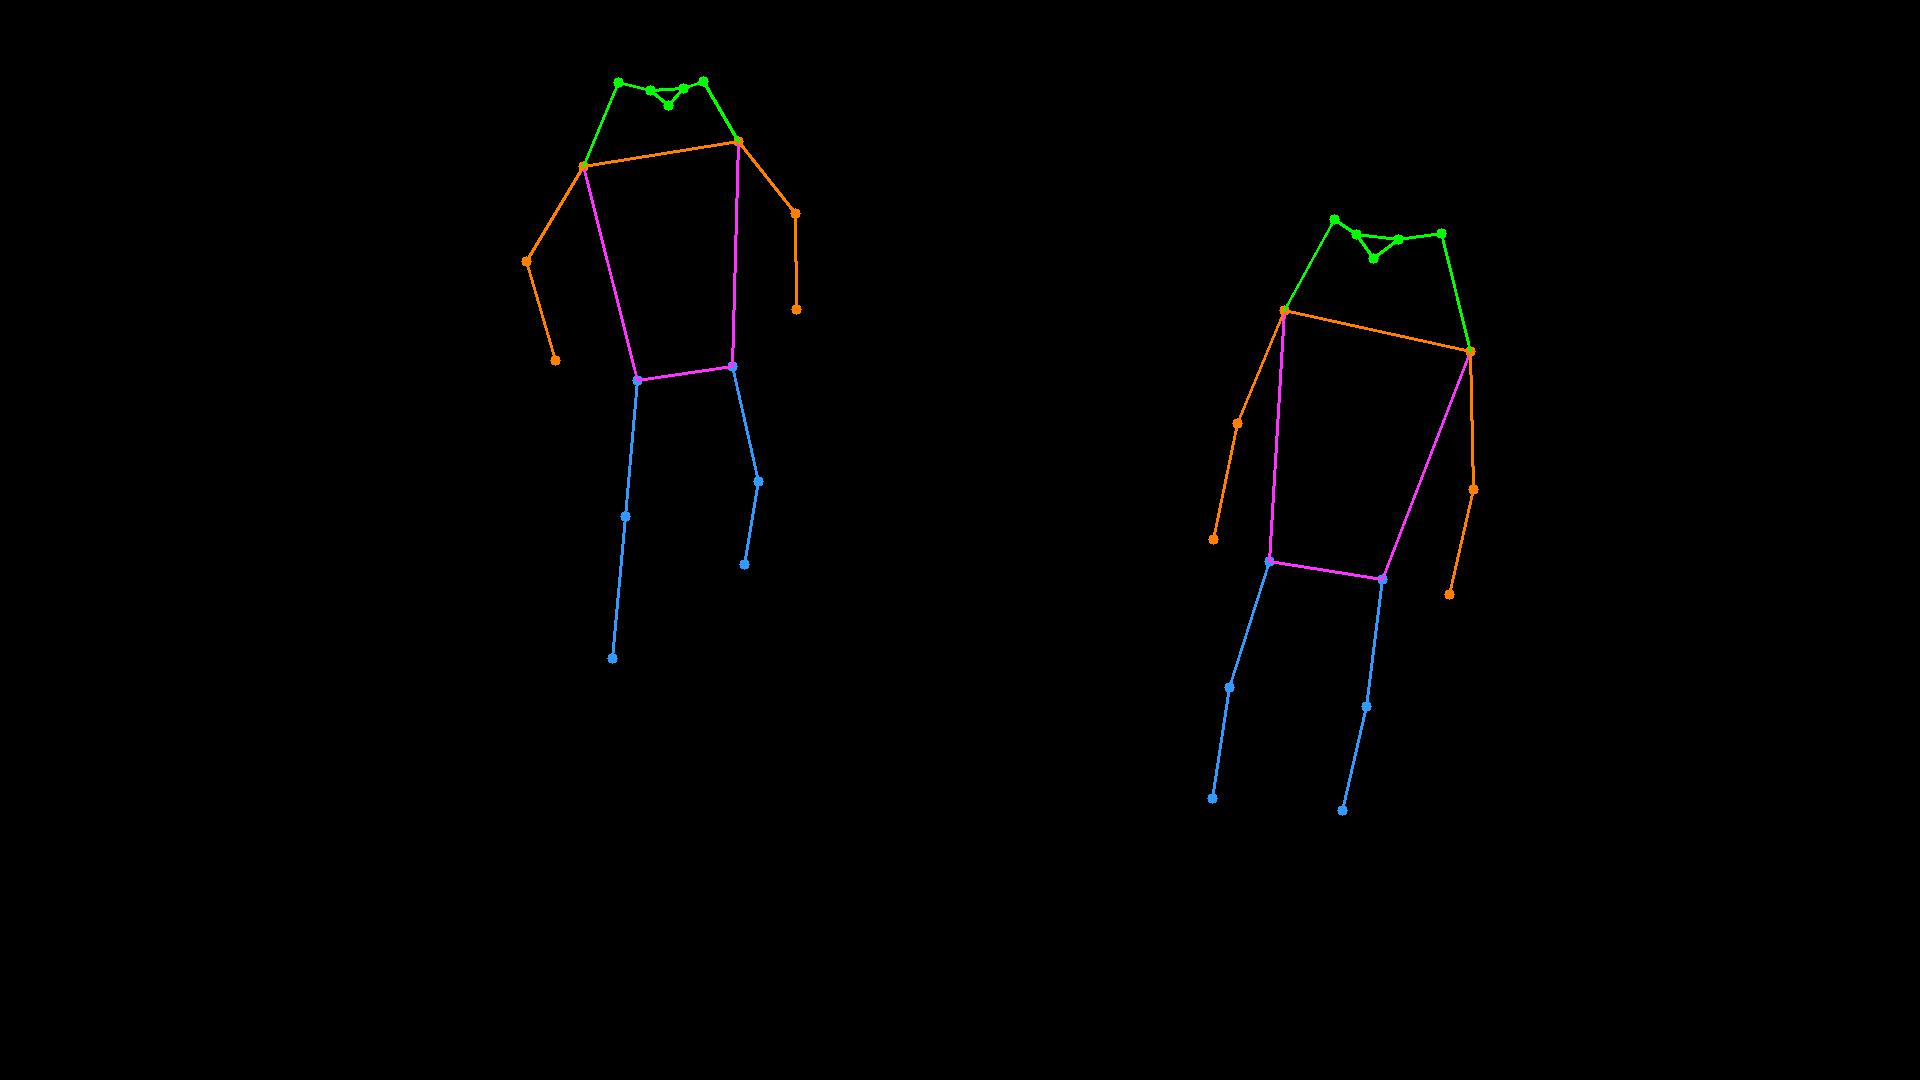normal: (1142, 169, 1545, 851), (481, 36, 876, 708)
